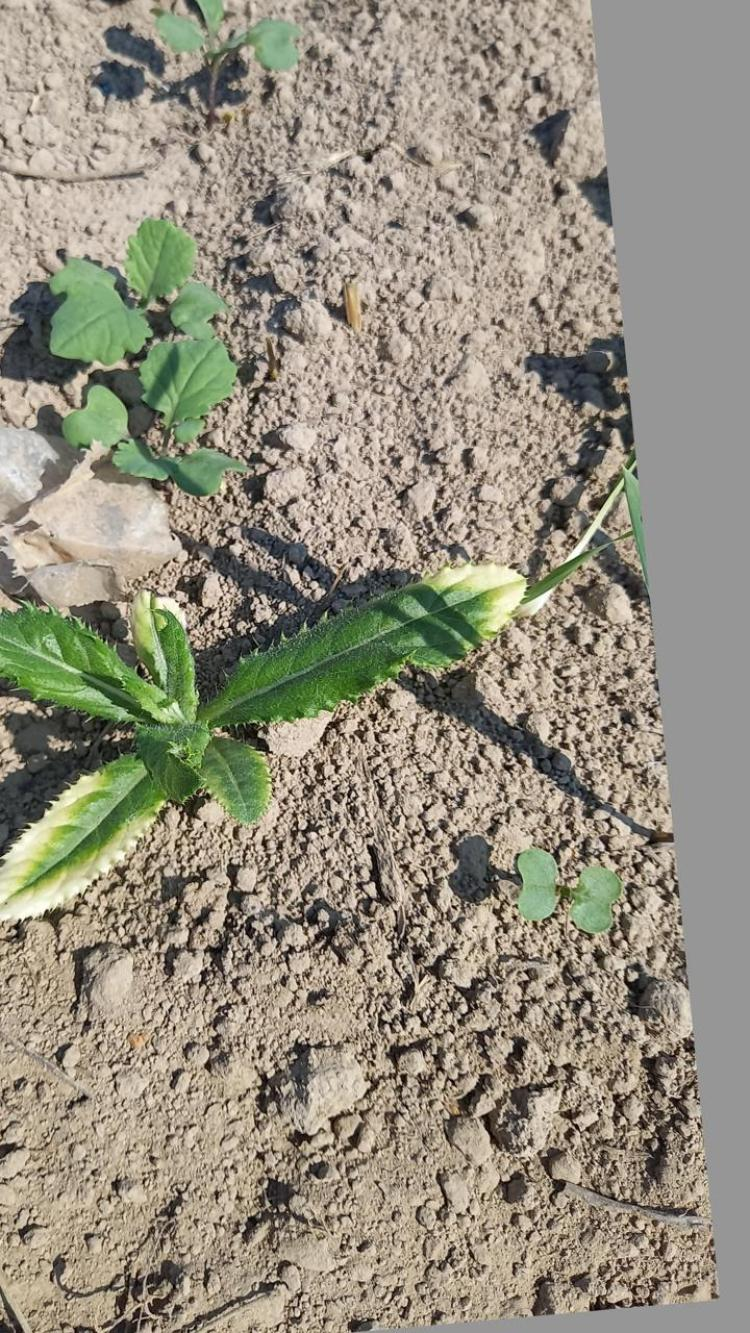bodyak: (0, 568, 531, 902)
